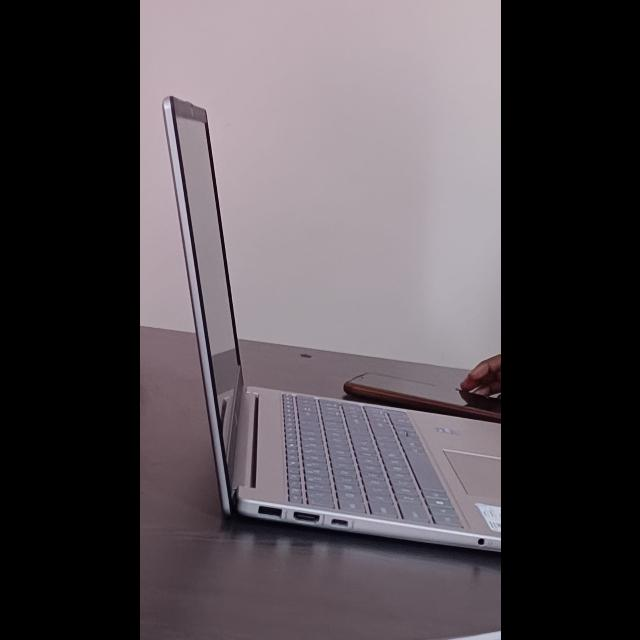laptop: (158, 90, 500, 640)
